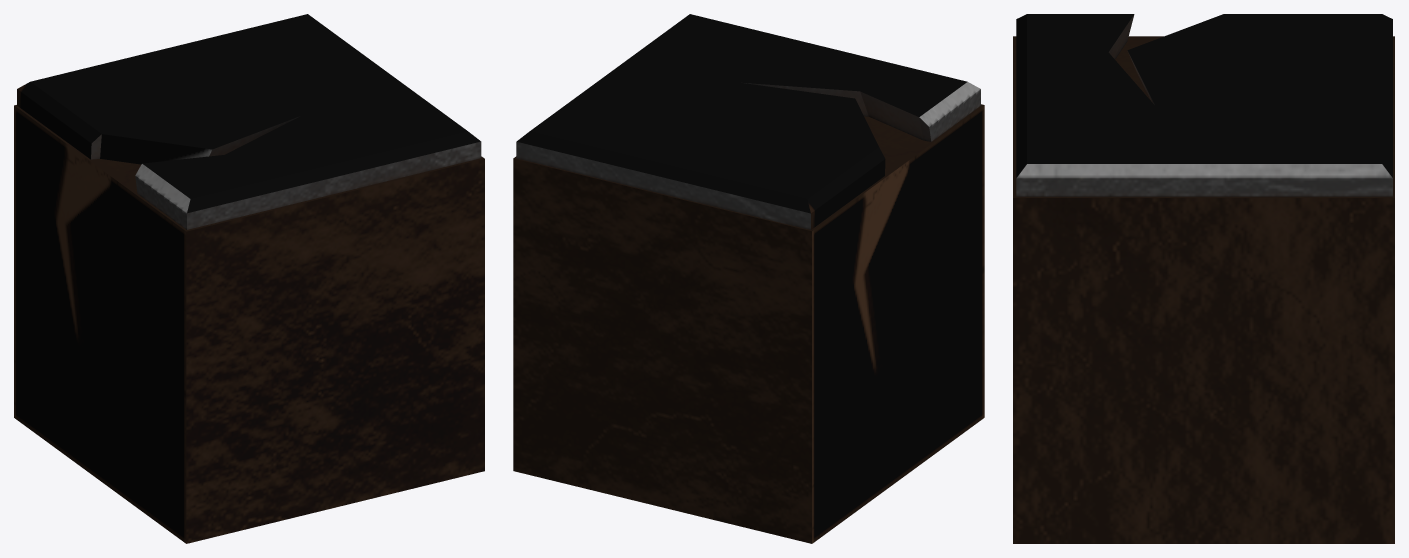
The model's file is FloorTile_1.obj.
3 renders of one model, left to right at view 1: azimuth 30°, elevation 25°; view 2: azimuth 150°, elevation 25°; view 3: azimuth 270°, elevation 25°, orthographic. The views are drawn at different scales.
Visible parts, largest first — view 1: Cube.005_Cube.006; view 2: Cube.005_Cube.006; view 3: Cube.005_Cube.006.
Boxes of the visible parts, x1,y1,x2,y2 form: Cube.005_Cube.006: (14, 14, 484, 543); Cube.005_Cube.006: (513, 14, 984, 543); Cube.005_Cube.006: (1013, 14, 1394, 543).
Bounding box in the file's own units: 1 × 1.08 × 1.
1 material, 1 textured.
